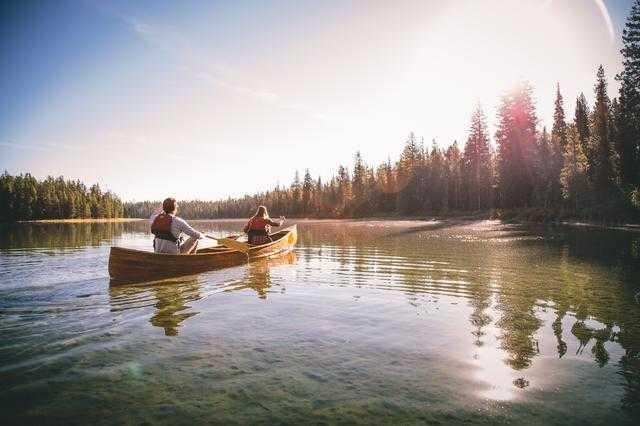kayak: (107, 227, 297, 279), (151, 196, 205, 255)
